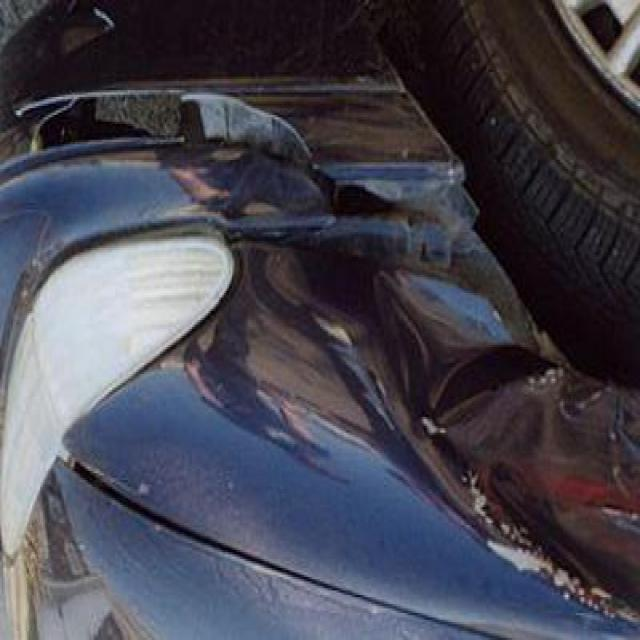dent: (220, 187, 615, 624)
